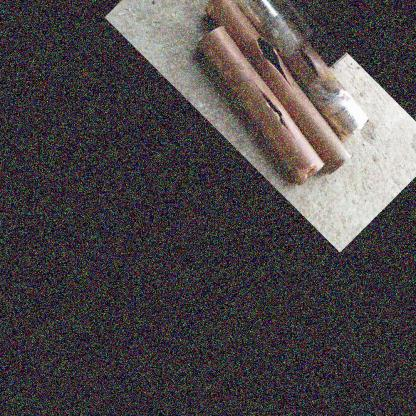burst: (256, 91, 295, 136), (254, 36, 289, 79), (300, 51, 321, 77)
